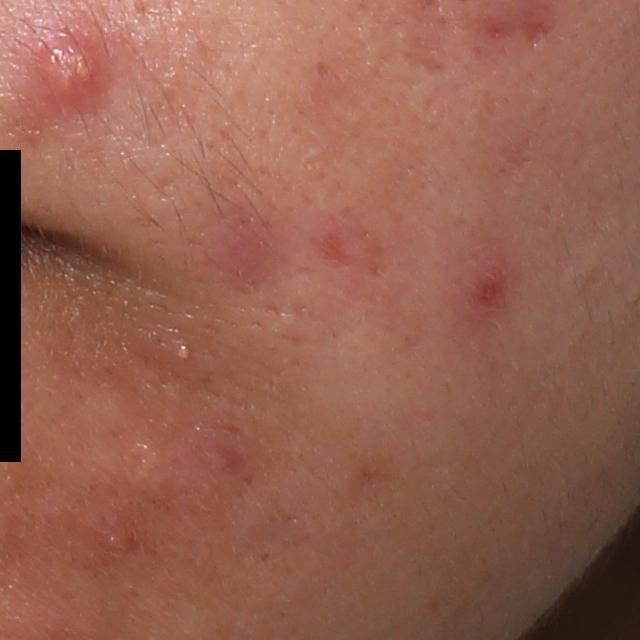atrophic_scar: (525, 18, 555, 53)
papule: (27, 29, 104, 114), (449, 248, 514, 330), (210, 211, 279, 276), (90, 513, 137, 561)
pustule: (166, 337, 196, 365)
